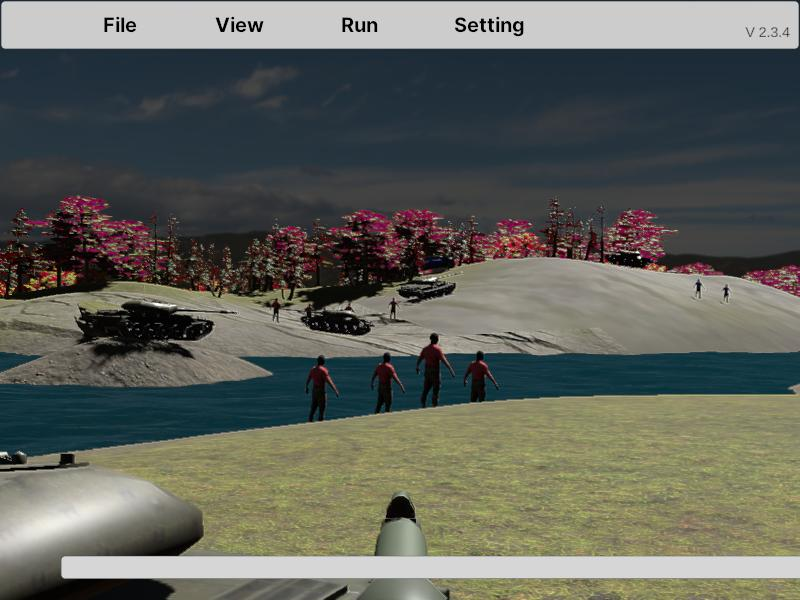Human: (416, 332, 454, 426), (306, 353, 339, 439), (464, 350, 499, 427), (371, 352, 405, 431)
Tank: (78, 300, 240, 342), (281, 307, 385, 336), (400, 271, 461, 300)
